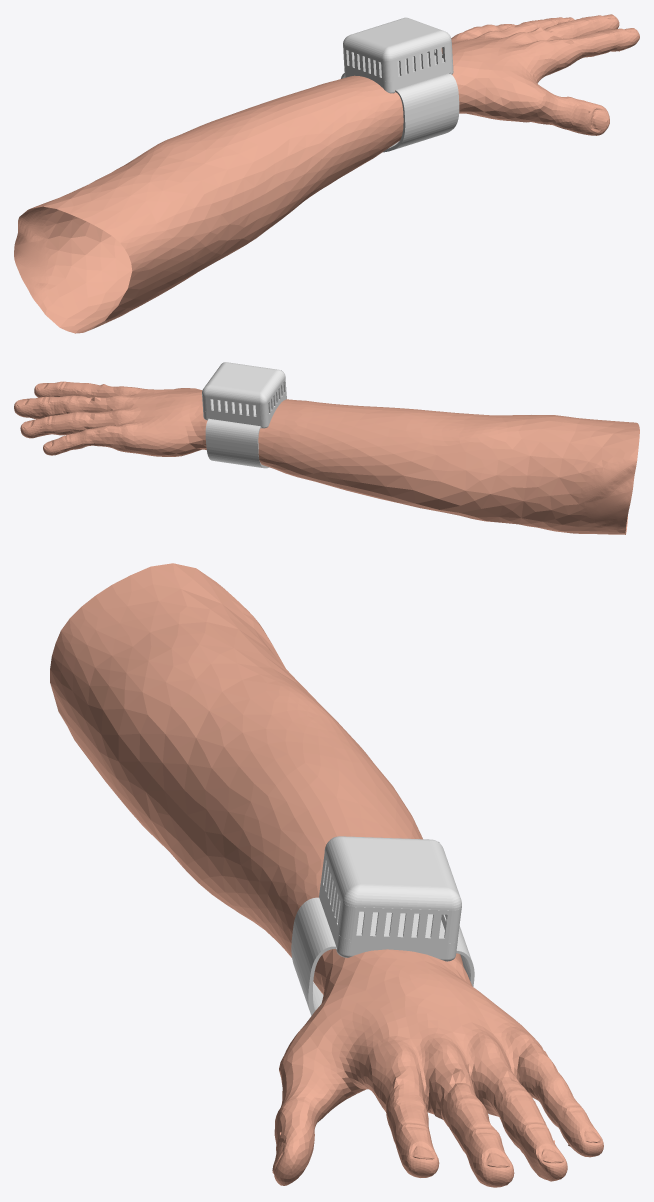
Rendered from PortablePneumaticWristband2.glb.
3 renders of one model, top to bottom at view 1: azimuth 30°, elevation 25°; view 2: azimuth 150°, elevation 25°; view 3: azimuth 270°, elevation 25°, orthographic. The views are drawn at different scales.
Parts seen in each view (by area): view 1: New object, PneumaticControlledWristbandV2; view 2: New object, PneumaticControlledWristbandV2; view 3: New object, PneumaticControlledWristbandV2.
Part boxes in pixels (x1,y1,x2,y2): New object: [14, 14, 639, 333]; PneumaticControlledWristbandV2: [341, 17, 459, 152]; New object: [14, 381, 639, 534]; PneumaticControlledWristbandV2: [202, 362, 286, 468]; New object: [50, 563, 603, 1187]; PneumaticControlledWristbandV2: [291, 836, 474, 1015].
Bounding box in the file's own units: 54.57 × 11.55 × 23.7.
